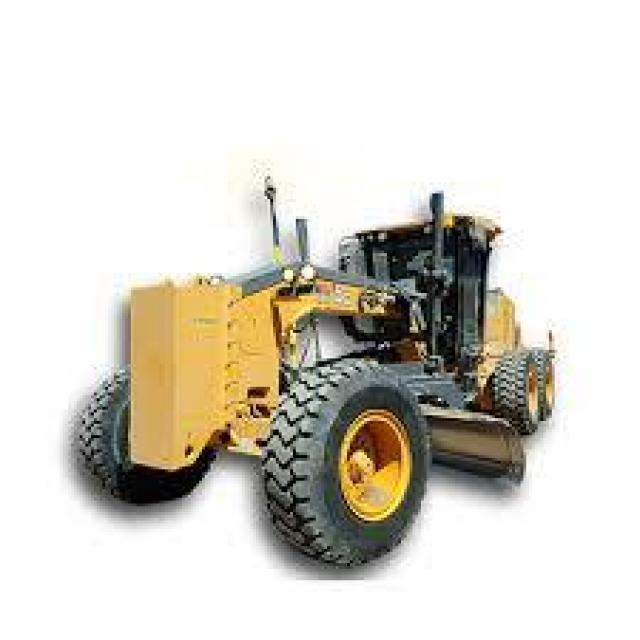Grader: (77, 159, 577, 575)
